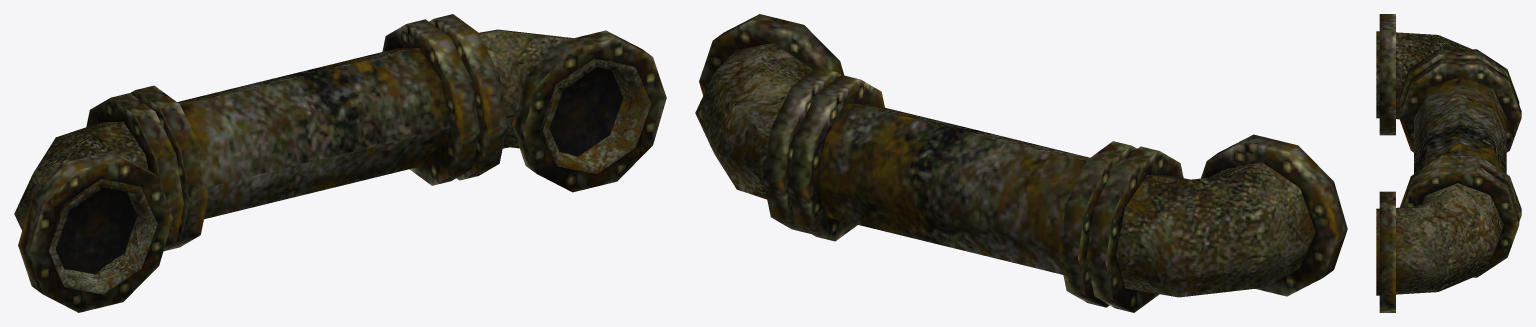
File: control_room_pipe03.dae
3 views of the same model, side by side, from view 1: azimuth 30°, elevation 25°; view 2: azimuth 150°, elevation 25°; view 3: azimuth 270°, elevation 25° (orthographic). The views are drawn at different scales.
Parts seen in each view (by area): view 1: control_room_pipe03; view 2: control_room_pipe03; view 3: control_room_pipe03.
Boxes of the visible parts, x1,y1,x2,y2 form: control_room_pipe03: [14, 14, 666, 312]; control_room_pipe03: [695, 14, 1347, 312]; control_room_pipe03: [1376, 14, 1521, 312].
Bounding box in the file's own units: 1.61 × 0.3464 × 0.432.
